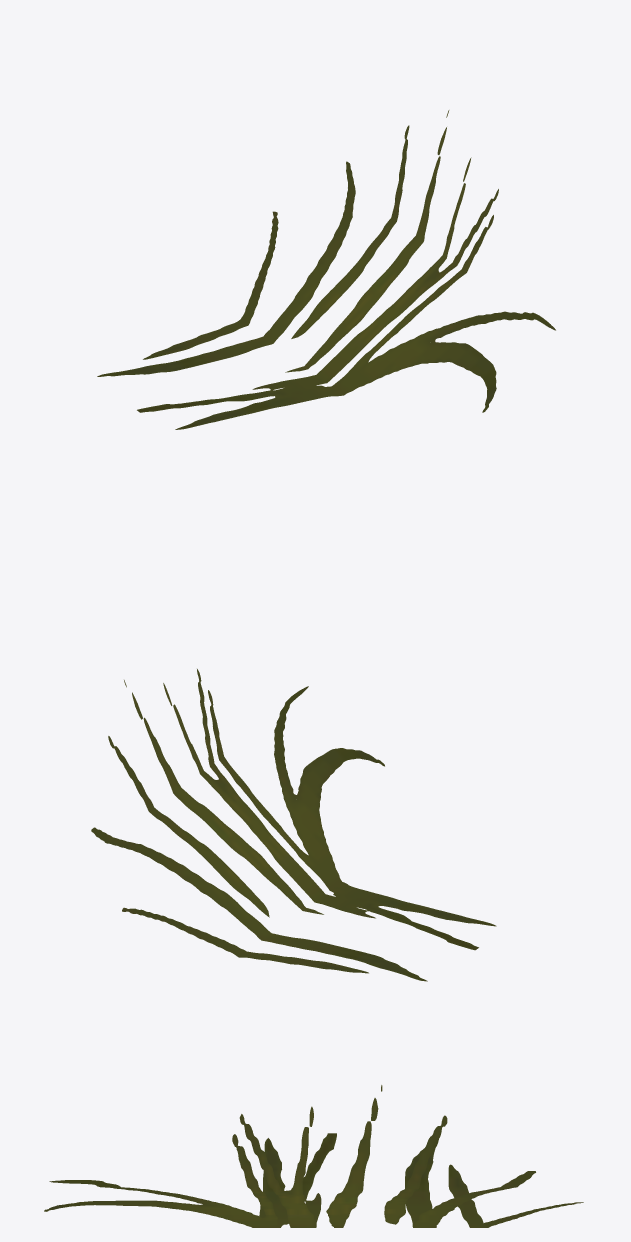
The model's file is grass_clump_00d.fbx.
3 views of the same model, one above another, from view 1: azimuth 30°, elevation 25°; view 2: azimuth 150°, elevation 25°; view 3: azimuth 270°, elevation 25° (orthographic). The views are drawn at different scales.
Visible parts, largest first — view 1: grass_clump_00d; view 2: grass_clump_00d; view 3: grass_clump_00d.
Boxes of the visible parts, <box> form: grass_clump_00d: <box>97,110,555,429</box>; grass_clump_00d: <box>91,669,496,981</box>; grass_clump_00d: <box>44,1085,583,1227</box>.
Bounding box in the file's own units: 64.74 × 40.63 × 87.5.
